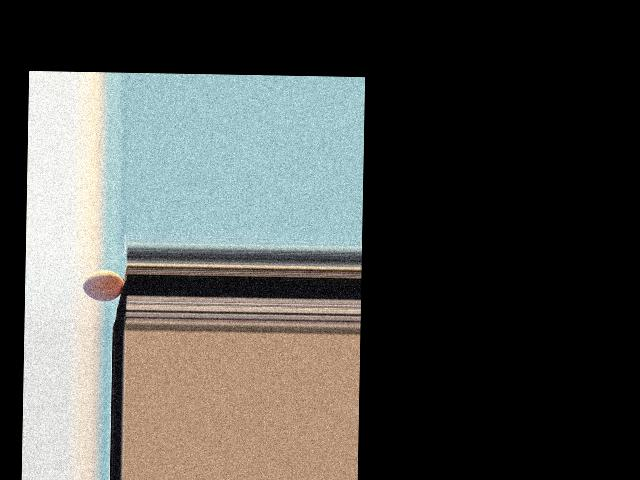egg: (82, 269, 123, 301)
